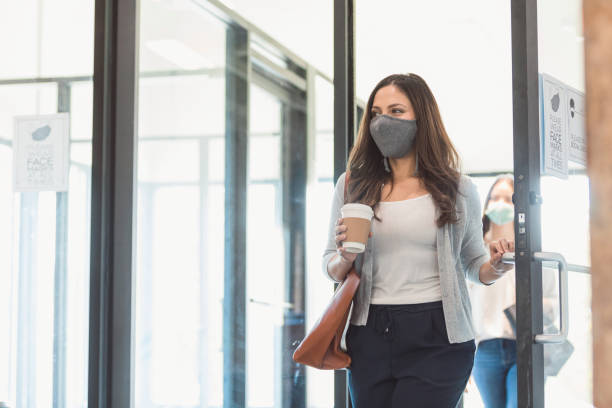with mask: (351, 74, 458, 163), (476, 174, 536, 232)
